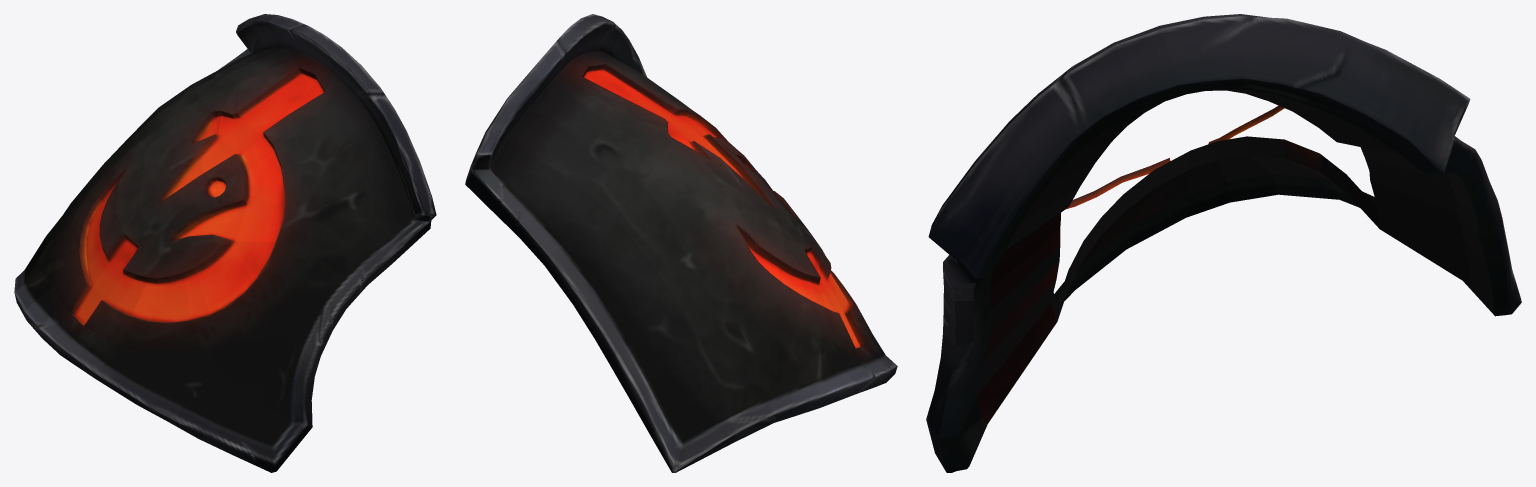
3 renders of one model, left to right at view 1: azimuth 30°, elevation 25°; view 2: azimuth 150°, elevation 25°; view 3: azimuth 270°, elevation 25°, orthographic. The views are drawn at different scales.
Visible parts, largest first — view 1: SkorcedHelmet_02; view 2: SkorcedHelmet_02; view 3: SkorcedHelmet_02.
Part boxes in pixels (x1,y1,x2,y2): SkorcedHelmet_02: (14, 14, 436, 472); SkorcedHelmet_02: (465, 14, 897, 472); SkorcedHelmet_02: (926, 14, 1521, 472).
Size of the model in its own units: 29.92 by 32.06 by 31.08.
Materials: 1 (1 with a texture image).
